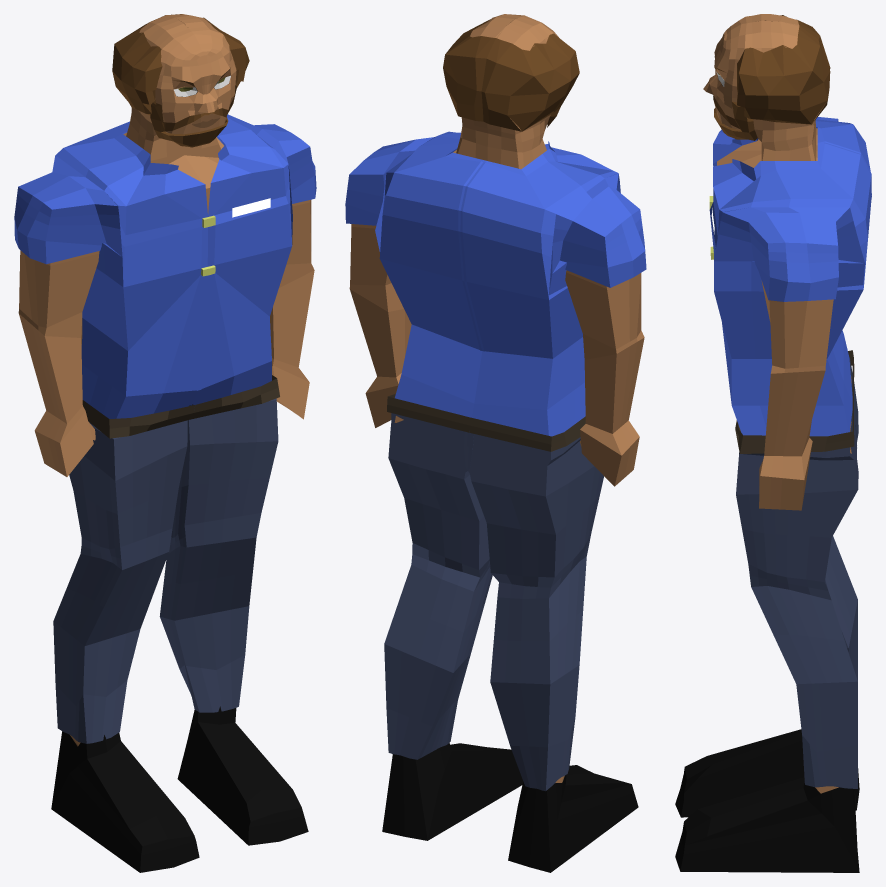
The model's file is janitor.fbx.
3 views of the same model, side by side, from view 1: azimuth 30°, elevation 25°; view 2: azimuth 150°, elevation 25°; view 3: azimuth 270°, elevation 25° (orthographic).
Parts seen in each view (by area): view 1: Cube.001, Cube.002, Cube, Cube.003, Cube.006, Cube.004, Cube.008; view 2: Cube.001, Cube.002, Cube, Cube.003, Cube.006, Cube.004; view 3: Cube.001, Cube.002, Cube.003, Cube, Cube.006, Cube.004, Cube.008.
Boxes of the visible parts, bbox=[...] form: Cube.001: bbox=[14, 114, 316, 418]; Cube.002: bbox=[53, 398, 278, 743]; Cube: bbox=[18, 14, 314, 746]; Cube.003: bbox=[51, 706, 308, 872]; Cube.006: bbox=[112, 14, 249, 115]; Cube.004: bbox=[82, 375, 279, 438]; Cube.008: bbox=[150, 85, 236, 147]; Cube.001: bbox=[345, 131, 646, 436]; Cube.002: bbox=[384, 413, 603, 791]; Cube: bbox=[349, 14, 644, 782]; Cube.003: bbox=[382, 742, 638, 872]; Cube.006: bbox=[443, 19, 579, 131]; Cube.004: bbox=[387, 394, 585, 451]; Cube.001: bbox=[709, 117, 871, 436]; Cube.002: bbox=[736, 356, 858, 788]; Cube.003: bbox=[675, 729, 859, 872]; Cube: bbox=[703, 14, 851, 793]; Cube.006: bbox=[737, 15, 830, 124]; Cube.004: bbox=[735, 350, 854, 453]; Cube.008: bbox=[714, 101, 757, 140].
Size of the model in its own units: 197 by 524 by 115.
